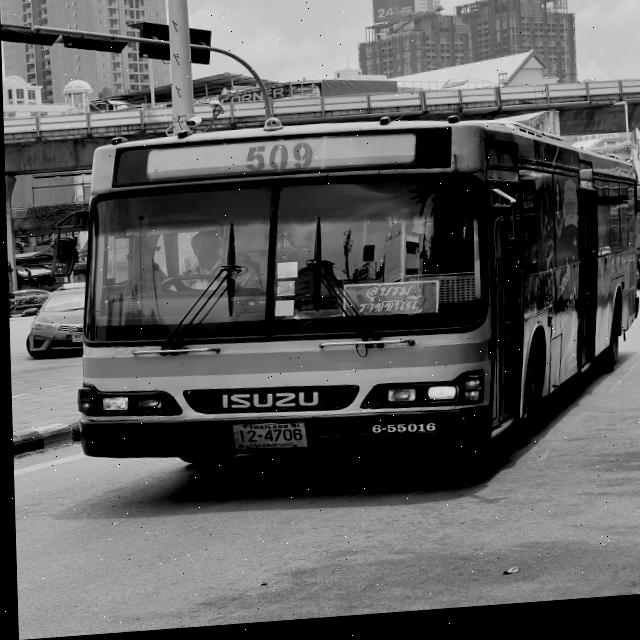BMTA-bus: (66, 111, 640, 486)
Bus-Line-Number: (234, 140, 325, 184)
Destination-Sign-Normal: (339, 285, 437, 324)
